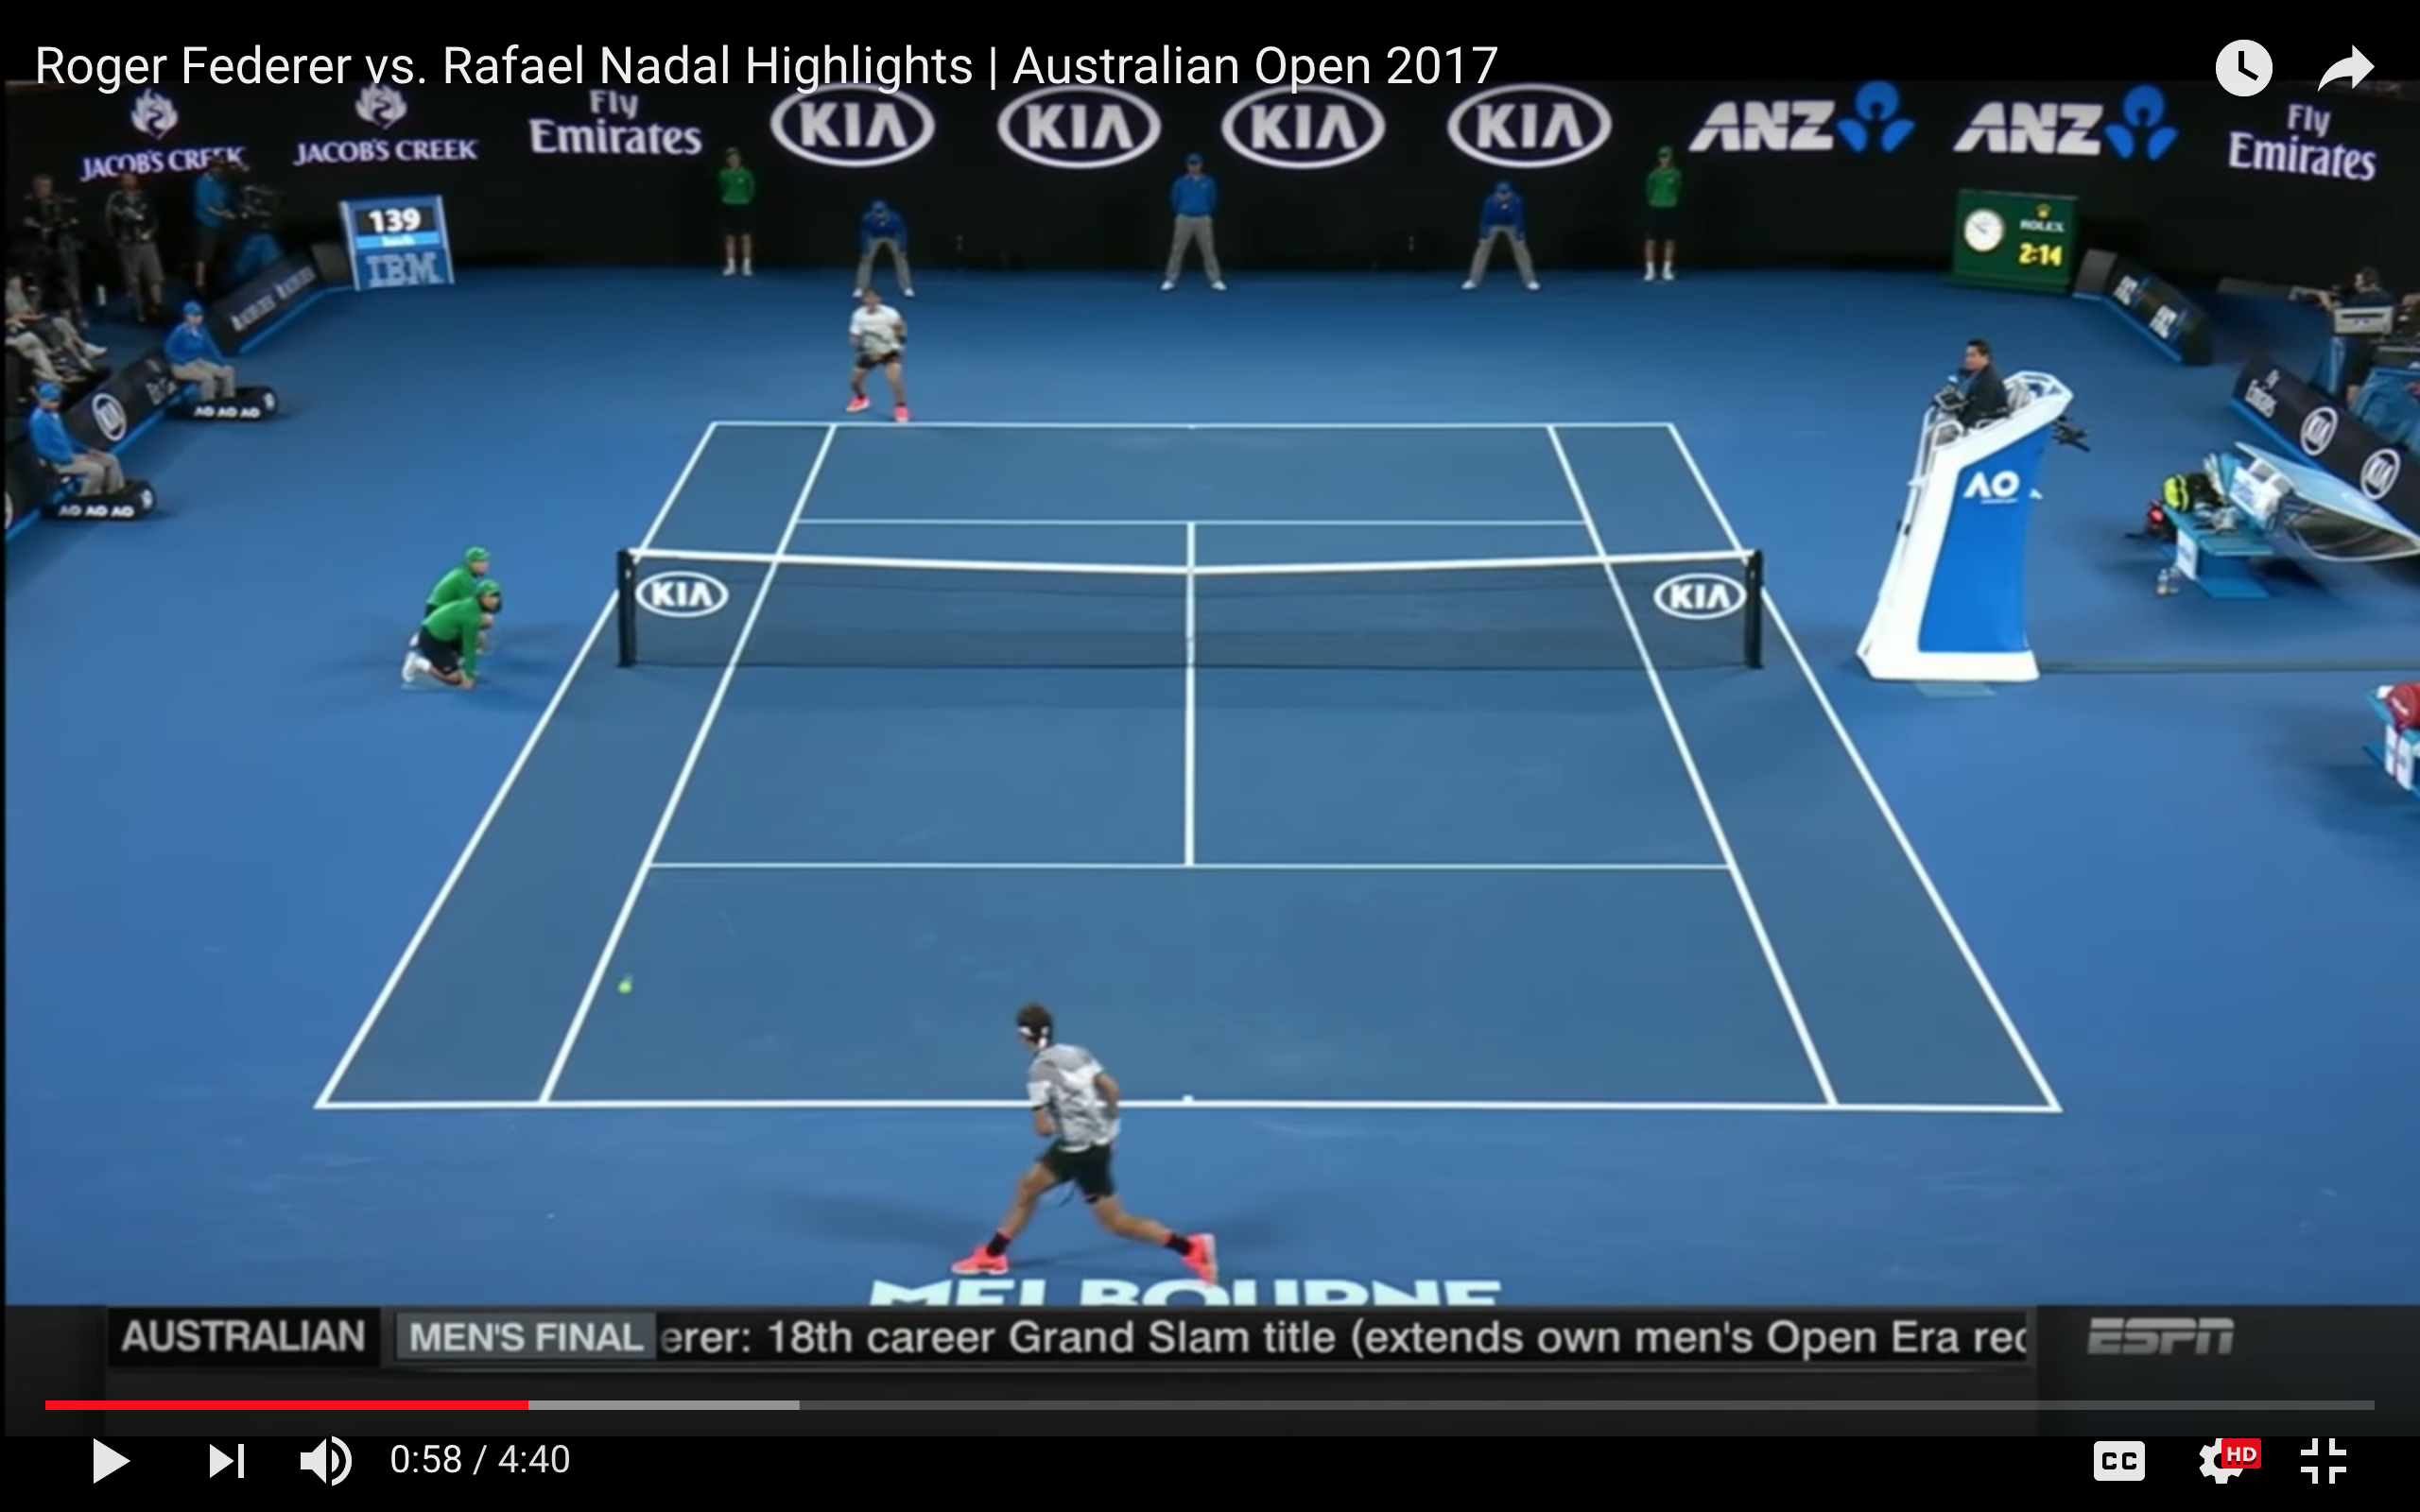tennis ball: (607, 976, 641, 1002)
tennis player: (941, 997, 1225, 1286), (837, 289, 921, 429)
